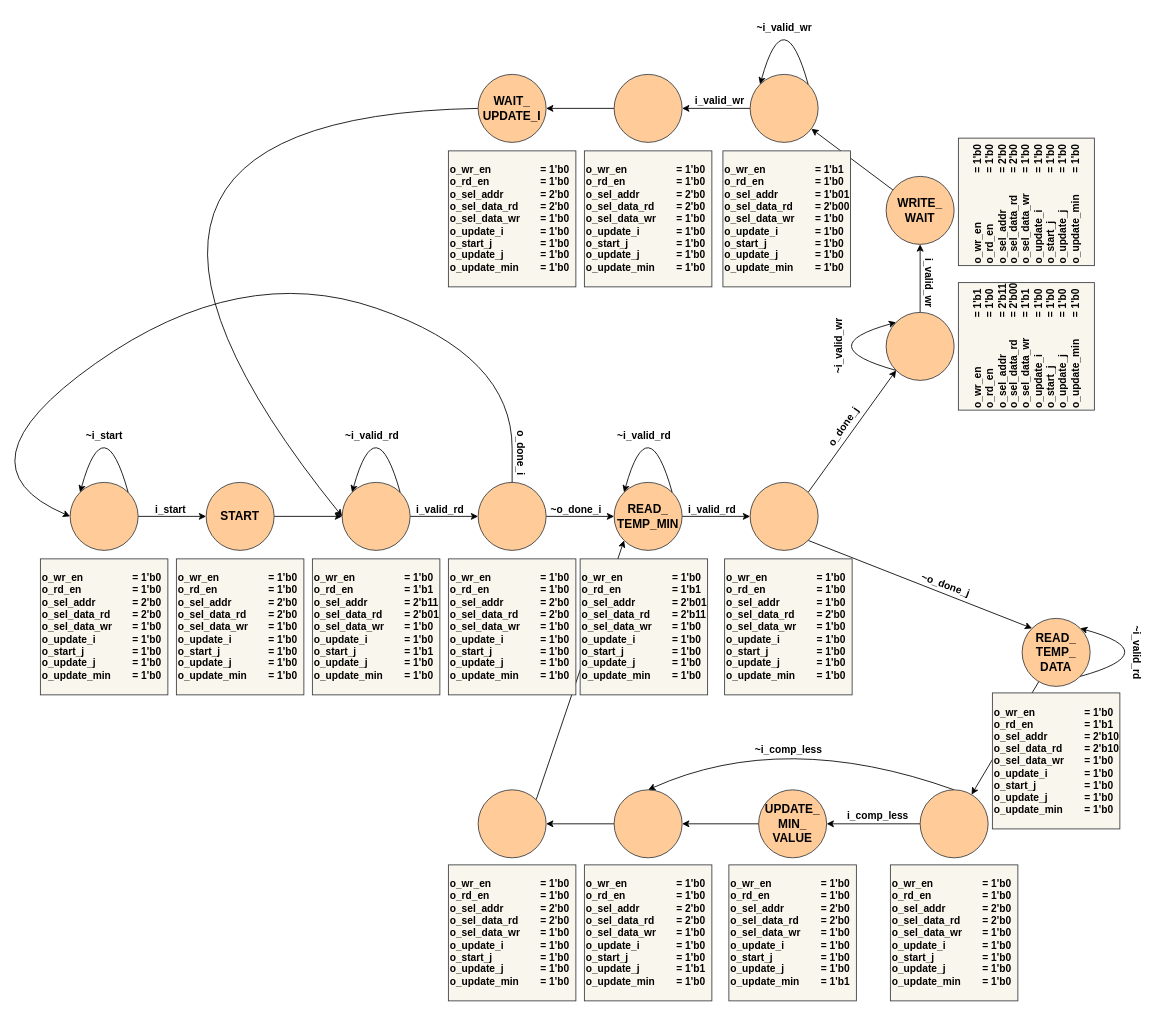
This 1165x1016 diagram has some shape labels left out. The centre of each missing label's shape, as x and y in pixels:
"COMPARE_ I" belongs at (x=511, y=516).
"COMPARE_ J" belongs at (x=783, y=516).
"COMPARE_ TEMP_ VALUE" belongs at (x=953, y=823).
"IDLE" belongs at (x=103, y=516).
"READ_ DATA_KEY" belongs at (x=375, y=516).
"UPDATE_ I" belongs at (x=647, y=108).
"UPDATE_ J" belongs at (x=647, y=823).
"WAIT_ UPDATE_ J" belongs at (x=511, y=823).
"WRITE_ DATA_KEY" belongs at (x=783, y=108).
"WRITE_ TEMP_ MIN" belongs at (x=919, y=346).
